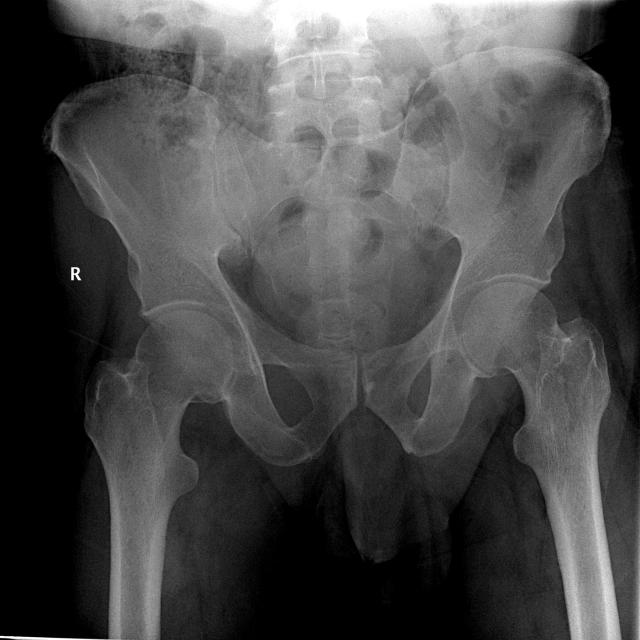normal-left: (463, 282, 612, 579)
normal-right: (84, 310, 233, 582)
